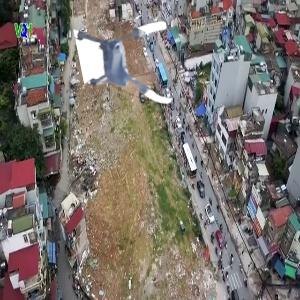drone: (83, 18, 182, 117)
